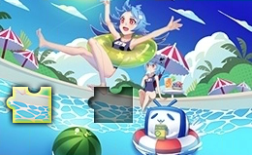gap: (89, 87, 133, 123)
